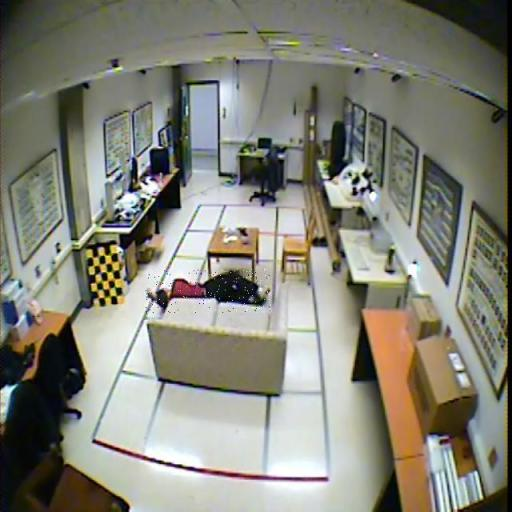Fall: (146, 269, 271, 313)
